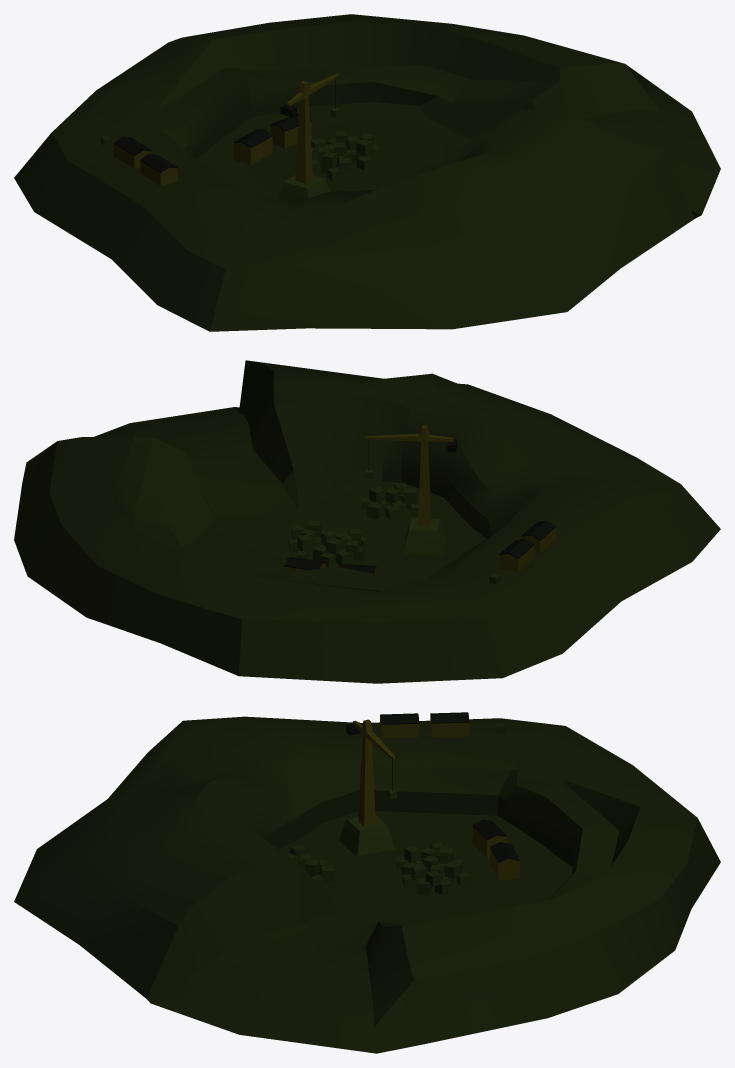
The model's file is SM_Quarry.fbx.
3 renders of one model, top to bottom at view 1: azimuth 30°, elevation 25°; view 2: azimuth 150°, elevation 25°; view 3: azimuth 270°, elevation 25°, orthographic. The views are drawn at different scales.
Visible parts, largest first — view 1: SM_Quarry; view 2: SM_Quarry; view 3: SM_Quarry.
Part boxes in pixels (x1,y1,x2,y2): SM_Quarry: [14, 14, 720, 331]; SM_Quarry: [14, 360, 720, 683]; SM_Quarry: [14, 712, 720, 1053].
Bounding box in the file's own units: 208 × 42.42 × 204.
